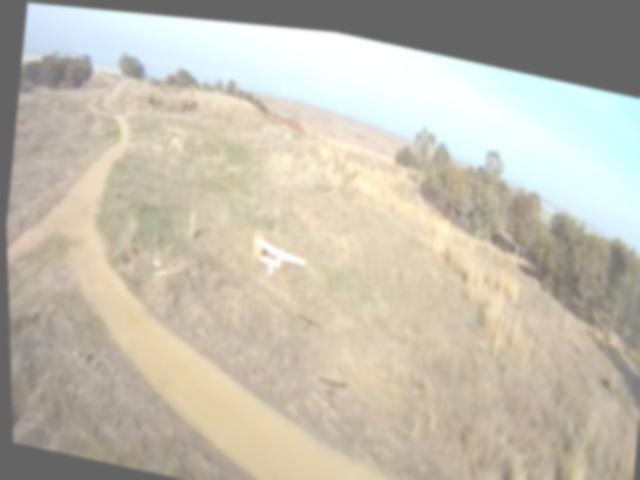uav: (248, 219, 316, 292)
